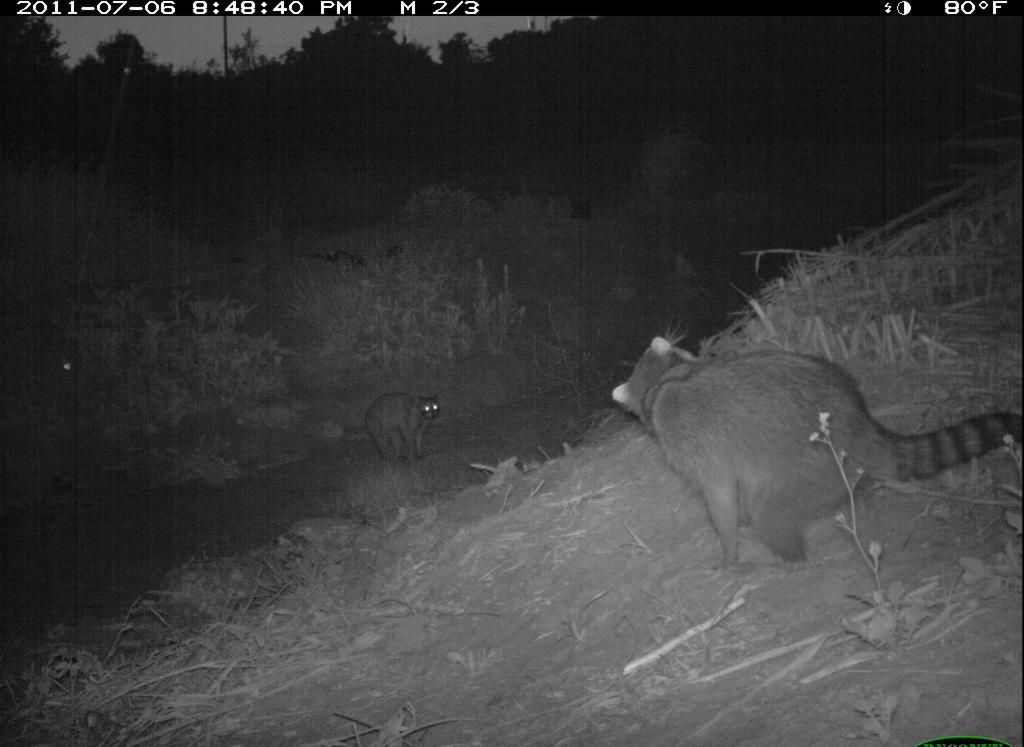raccoon: (603, 317, 1024, 578), (338, 367, 470, 472)
